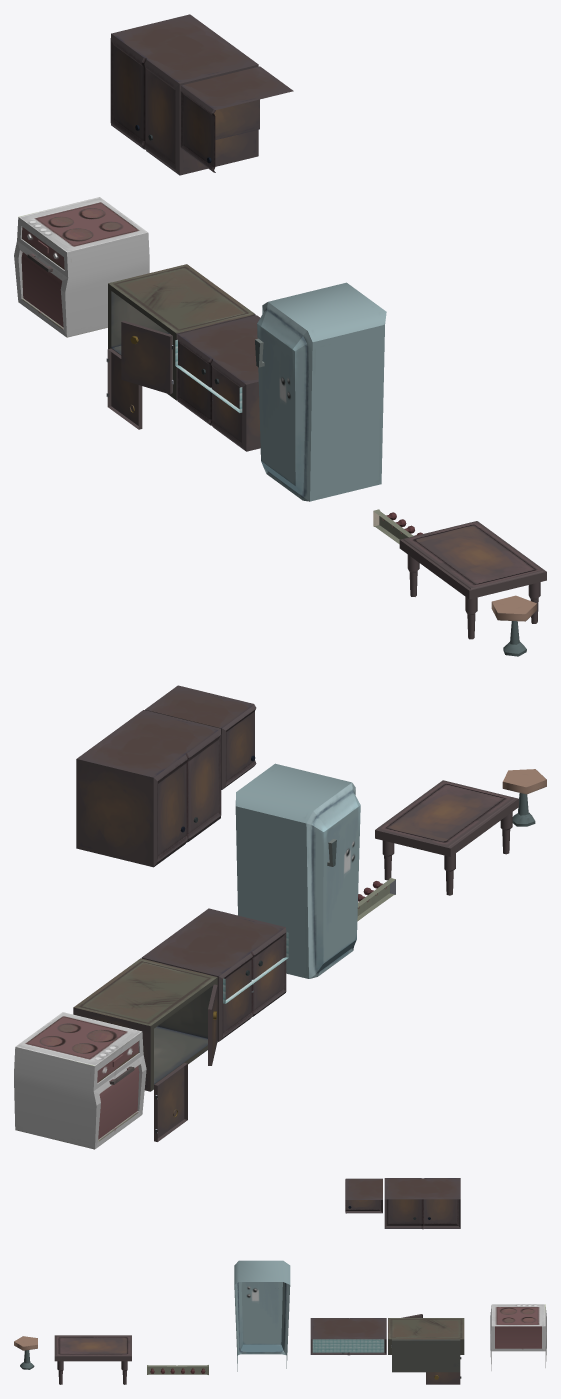
The model's file is cuisine_props.FBX.
3 views of the same model, one above another, from view 1: azimuth 30°, elevation 25°; view 2: azimuth 150°, elevation 25°; view 3: azimuth 270°, elevation 25° (orthographic). The views are drawn at different scales.
Parts seen in each view (by area): view 1: Box003 (×2), Box005 (×2), Box014, Box002, Box006, Box015, Box007, Box013, Cylinder001; view 2: Box005 (×2), Box003 (×2), Box014, Box006, Box002, Box015, Box013, Cylinder001, Box007; view 3: Box003 (×3), Box005 (×2), Box006, Box014, Box002, Box015, Box013, Cylinder001.
Boxes of the visible parts, left/top/right/bottom form: Box003 (×2): left=255, top=282, right=422, bottom=544; Box005 (×2): left=14, top=197, right=260, bottom=451; Box014: left=110, top=14, right=258, bottom=175; Box002: left=399, top=521, right=546, bottom=639; Box006: left=108, top=264, right=255, bottom=400; Box015: left=180, top=66, right=293, bottom=172; Box007: left=121, top=320, right=173, bottom=394; Box013: left=106, top=348, right=142, bottom=429; Cylinder001: left=491, top=595, right=536, bottom=656; Box005 (×2): left=14, top=908, right=286, bottom=1149; Box003 (×2): left=235, top=763, right=395, bottom=978; Box014: left=76, top=710, right=221, bottom=867; Box006: left=73, top=958, right=217, bottom=1091; Box002: left=375, top=780, right=518, bottom=895; Box015: left=145, top=685, right=256, bottom=789; Box013: left=154, top=1063, right=187, bottom=1141; Cylinder001: left=502, top=769, right=546, bottom=826; Box007: left=208, top=984, right=217, bottom=1065; Box003 (×3): left=147, top=1260, right=384, bottom=1374; Box005 (×2): left=310, top=1304, right=546, bottom=1370; Box006: left=388, top=1318, right=464, bottom=1372; Box014: left=384, top=1178, right=460, bottom=1229; Box002: left=54, top=1335, right=131, bottom=1384; Box015: left=345, top=1178, right=382, bottom=1213; Box013: left=426, top=1357, right=461, bottom=1384; Cylinder001: left=14, top=1336, right=37, bottom=1369.
Bounding box in the file's own units: 75.07 × 258 × 603.
